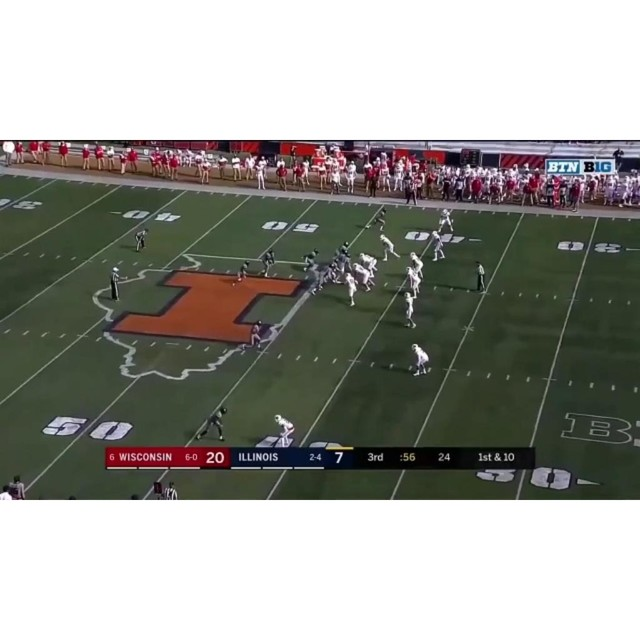american-football-player: (197, 407, 228, 442), (311, 263, 339, 297), (241, 319, 264, 354), (95, 310, 118, 342), (352, 262, 374, 293), (274, 414, 295, 445), (411, 343, 430, 377), (367, 204, 388, 232), (379, 233, 400, 261), (402, 290, 417, 328), (343, 270, 358, 307), (405, 266, 421, 298), (232, 259, 250, 287), (431, 229, 446, 261), (301, 248, 320, 273), (409, 251, 424, 282), (261, 249, 277, 278), (438, 208, 455, 235)
referee: (109, 266, 122, 302), (474, 260, 486, 292), (134, 226, 148, 253)
